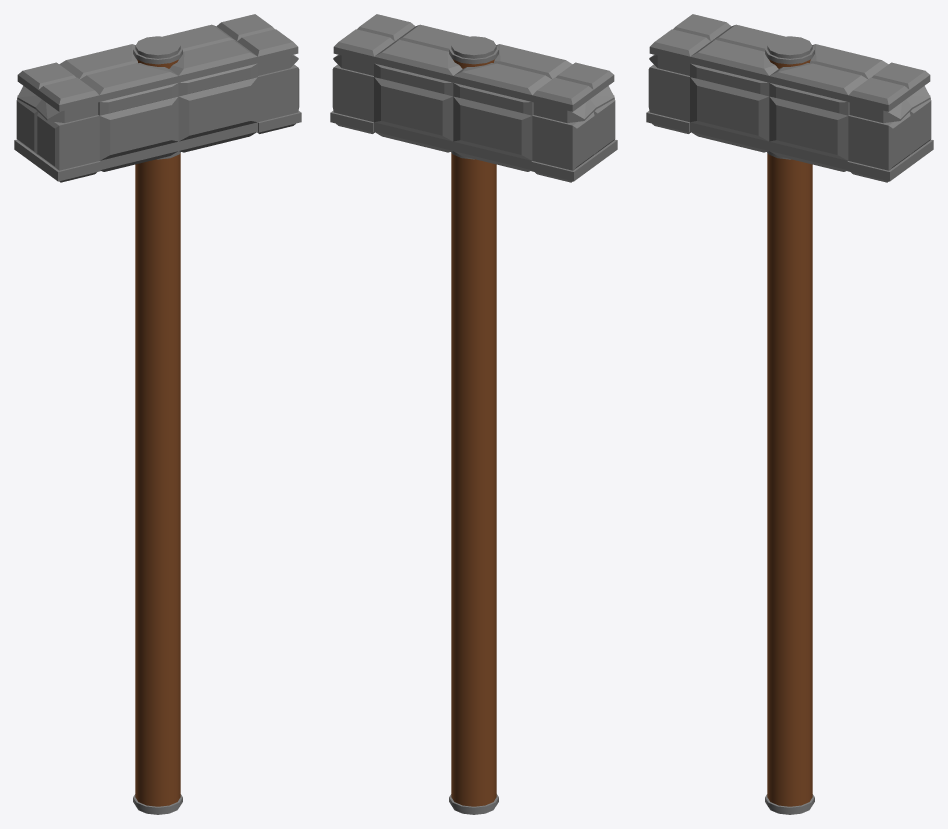
Rendered from Hammer8.fbx.
3 renders of one model, left to right at view 1: azimuth 30°, elevation 25°; view 2: azimuth 150°, elevation 25°; view 3: azimuth 330°, elevation 25°, orthographic.
Parts seen in each view (by area): view 1: Hammer; view 2: Hammer; view 3: Hammer.
Part boxes in pixels (<box>): Hammer: <box>14,14,301,814</box>; Hammer: <box>330,14,617,814</box>; Hammer: <box>646,14,933,814</box>.
Bounding box in the file's own units: 55.33 × 160 × 17.25.
